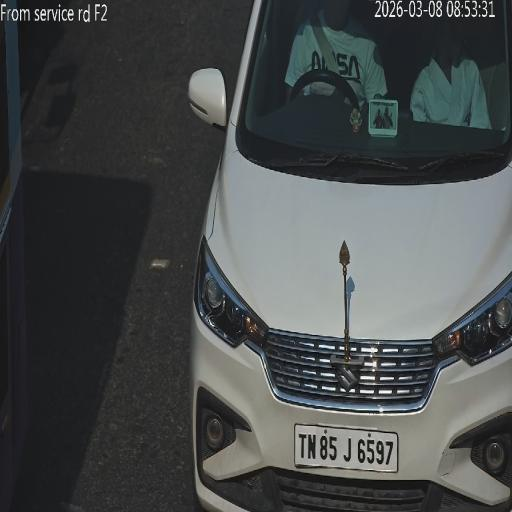person_with_seatbelt: (306, 3, 340, 89)
person_without_seatbelt: (426, 71, 484, 130)
